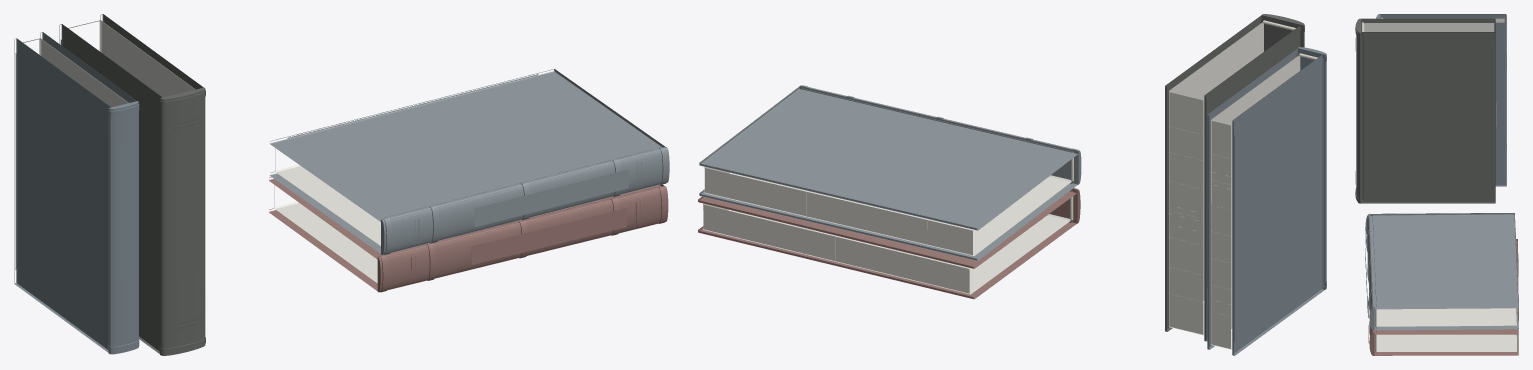
The model's file is X14_LRS1953_BOOKS_S03_bk0.glb.
3 views of the same model, side by side, from view 1: azimuth 30°, elevation 25°; view 2: azimuth 150°, elevation 25°; view 3: azimuth 270°, elevation 25° (orthographic). The views are drawn at different scales.
Visible parts, largest first — view 1: S06_SPARSE_USED_A_S06_SPARSE_USED_B06_book_04_cover_-1, S06_SPARSE_USED_A_S06_SPARSE_USED_B02_book_01_cover_-1, S06_SPARSE_USED_A_S06_SPARSE_USED_B03_book_05_spine, S06_SPARSE_USED_A_S06_SPARSE_USED_B03_book_05_cover_-1, S06_SPARSE_USED_A_S06_SPARSE_USED_B05_book_04_spine, S06_SPARSE_USED_A_S06_SPARSE_USED_B06_book_04_spine, S06_SPARSE_USED_A_S06_SPARSE_USED_B02_book_01_spine, S06_SPARSE_USED_A_S06_SPARSE_USED_B03_book_05_TITLE_SURFACE_, S06_SPARSE_USED_A_S06_SPARSE_USED_B05_book_04_TITLE_SURFACE_, S06_SPARSE_USED_A_S06_SPARSE_USED_B06_book_04_TITLE_SURFACE_, S06_SPARSE_USED_A_S06_SPARSE_USED_B03_book_05_pages, S06_SPARSE_USED_A_S06_SPARSE_USED_B06_book_04_pages (+8 smaller); view 2: S06_SPARSE_USED_A_S06_SPARSE_USED_B06_book_04_cover_-1, S06_SPARSE_USED_A_S06_SPARSE_USED_B02_book_01_cover_-1, S06_SPARSE_USED_A_S06_SPARSE_USED_B03_book_05_pages, S06_SPARSE_USED_A_S06_SPARSE_USED_B06_book_04_pages, S06_SPARSE_USED_A_S06_SPARSE_USED_B05_book_04_pages, S06_SPARSE_USED_A_S06_SPARSE_USED_B02_book_01_pages, S06_SPARSE_USED_A_S06_SPARSE_USED_B05_book_04_cover_-1, S06_SPARSE_USED_A_S06_SPARSE_USED_B03_book_05_cover_-1, S06_SPARSE_USED_A_S06_SPARSE_USED_B05_book_04_cover_1, S06_SPARSE_USED_A_S06_SPARSE_USED_B06_book_04_cover_1, S06_SPARSE_USED_A_S06_SPARSE_USED_B02_book_01_cover_1, S06_SPARSE_USED_A_S06_SPARSE_USED_B03_book_05_cover_1 (+5 smaller); view 3: S06_SPARSE_USED_A_S06_SPARSE_USED_B03_book_05_cover_1, S06_SPARSE_USED_A_S06_SPARSE_USED_B06_book_04_cover_-1, S06_SPARSE_USED_A_S06_SPARSE_USED_B03_book_05_TITLE_SURFACE_, S06_SPARSE_USED_A_S06_SPARSE_USED_B06_book_04_pages, S06_SPARSE_USED_A_S06_SPARSE_USED_B05_book_04_pages, S06_SPARSE_USED_A_S06_SPARSE_USED_B02_book_01_cover_1, S06_SPARSE_USED_A_S06_SPARSE_USED_B03_book_05_pages, S06_SPARSE_USED_A_S06_SPARSE_USED_B03_book_05_spine, S06_SPARSE_USED_A_S06_SPARSE_USED_B05_book_04_cover_-1, S06_SPARSE_USED_A_S06_SPARSE_USED_B03_book_05_cover_-1, S06_SPARSE_USED_A_S06_SPARSE_USED_B06_book_04_cover_1, S06_SPARSE_USED_A_S06_SPARSE_USED_B02_book_01_cover_-1 (+7 smaller).
Part boxes in pixels (<box>): S06_SPARSE_USED_A_S06_SPARSE_USED_B06_book_04_cover_-1: <box>270,69,665,221</box>; S06_SPARSE_USED_A_S06_SPARSE_USED_B02_book_01_cover_-1: <box>14,38,110,352</box>; S06_SPARSE_USED_A_S06_SPARSE_USED_B03_book_05_spine: <box>160,87,205,355</box>; S06_SPARSE_USED_A_S06_SPARSE_USED_B03_book_05_cover_-1: <box>59,24,162,353</box>; S06_SPARSE_USED_A_S06_SPARSE_USED_B05_book_04_spine: <box>377,186,668,292</box>; S06_SPARSE_USED_A_S06_SPARSE_USED_B06_book_04_spine: <box>381,147,669,254</box>; S06_SPARSE_USED_A_S06_SPARSE_USED_B02_book_01_spine: <box>108,101,138,354</box>; S06_SPARSE_USED_A_S06_SPARSE_USED_B03_book_05_TITLE_SURFACE_: <box>175,132,198,275</box>; S06_SPARSE_USED_A_S06_SPARSE_USED_B05_book_04_TITLE_SURFACE_: <box>471,208,626,264</box>; S06_SPARSE_USED_A_S06_SPARSE_USED_B06_book_04_TITLE_SURFACE_: <box>474,169,628,226</box>; S06_SPARSE_USED_A_S06_SPARSE_USED_B03_book_05_pages: <box>68,20,195,97</box>; S06_SPARSE_USED_A_S06_SPARSE_USED_B06_book_04_pages: <box>275,148,380,245</box>; S06_SPARSE_USED_A_S06_SPARSE_USED_B06_book_04_cover_-1: <box>699,86,1077,230</box>; S06_SPARSE_USED_A_S06_SPARSE_USED_B02_book_01_cover_-1: <box>1232,54,1326,355</box>; S06_SPARSE_USED_A_S06_SPARSE_USED_B03_book_05_pages: <box>1169,22,1293,335</box>; S06_SPARSE_USED_A_S06_SPARSE_USED_B06_book_04_pages: <box>704,165,1072,255</box>; S06_SPARSE_USED_A_S06_SPARSE_USED_B05_book_04_pages: <box>703,198,1071,294</box>; S06_SPARSE_USED_A_S06_SPARSE_USED_B02_book_01_pages: <box>1211,55,1315,349</box>; S06_SPARSE_USED_A_S06_SPARSE_USED_B05_book_04_cover_-1: <box>698,189,1077,268</box>; S06_SPARSE_USED_A_S06_SPARSE_USED_B03_book_05_cover_-1: <box>1204,25,1300,341</box>; S06_SPARSE_USED_A_S06_SPARSE_USED_B05_book_04_cover_1: <box>698,222,1076,299</box>; S06_SPARSE_USED_A_S06_SPARSE_USED_B06_book_04_cover_1: <box>699,183,1077,260</box>; S06_SPARSE_USED_A_S06_SPARSE_USED_B02_book_01_cover_1: <box>1207,48,1297,349</box>; S06_SPARSE_USED_A_S06_SPARSE_USED_B03_book_05_cover_1: <box>1165,16,1261,331</box>; S06_SPARSE_USED_A_S06_SPARSE_USED_B03_book_05_cover_1: <box>1361,32,1495,203</box>; S06_SPARSE_USED_A_S06_SPARSE_USED_B06_book_04_cover_-1: <box>1370,213,1518,309</box>; S06_SPARSE_USED_A_S06_SPARSE_USED_B03_book_05_TITLE_SURFACE_: <box>1383,70,1467,138</box>; S06_SPARSE_USED_A_S06_SPARSE_USED_B06_book_04_pages: <box>1377,308,1517,326</box>; S06_SPARSE_USED_A_S06_SPARSE_USED_B05_book_04_pages: <box>1377,334,1517,351</box>; S06_SPARSE_USED_A_S06_SPARSE_USED_B02_book_01_cover_1: <box>1495,22,1506,186</box>; S06_SPARSE_USED_A_S06_SPARSE_USED_B03_book_05_pages: <box>1364,23,1494,31</box>; S06_SPARSE_USED_A_S06_SPARSE_USED_B03_book_05_spine: <box>1356,18,1361,203</box>; S06_SPARSE_USED_A_S06_SPARSE_USED_B05_book_04_cover_-1: <box>1374,239,1518,334</box>; S06_SPARSE_USED_A_S06_SPARSE_USED_B03_book_05_cover_-1: <box>1361,18,1495,28</box>; S06_SPARSE_USED_A_S06_SPARSE_USED_B06_book_04_cover_1: <box>1374,312,1518,330</box>; S06_SPARSE_USED_A_S06_SPARSE_USED_B02_book_01_cover_-1: <box>1380,14,1506,22</box>.
Bounding box in the file's own units: 0.5149 × 0.228 × 0.1982.
